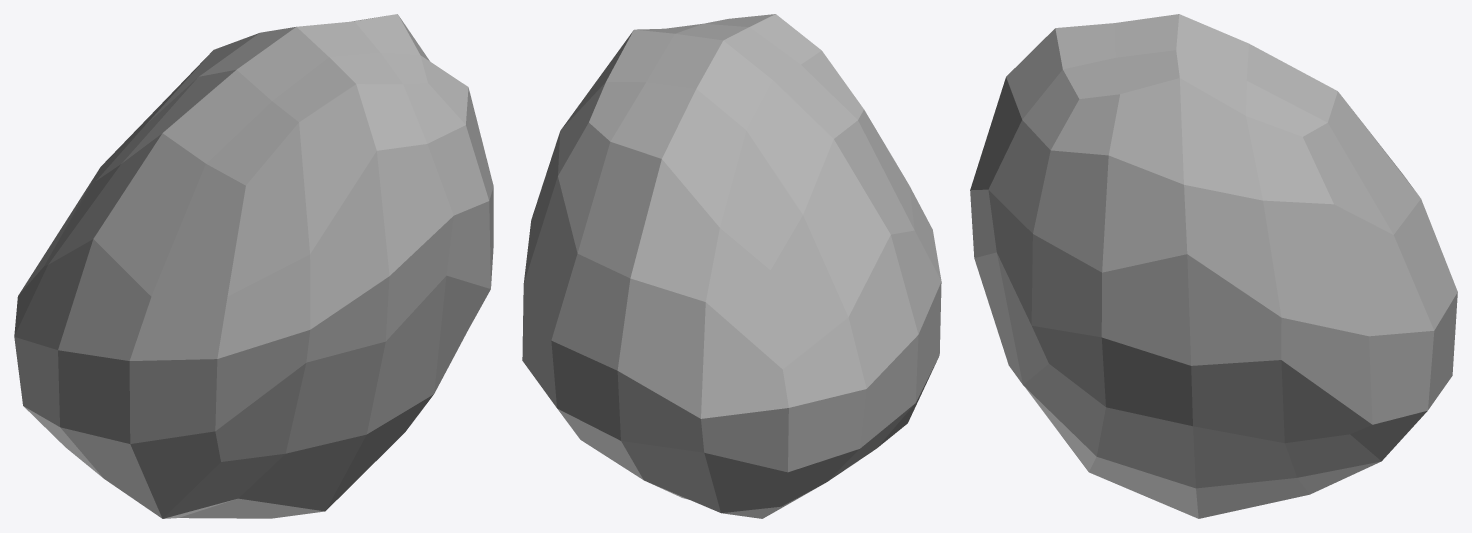
File: rock_002.glb
The picture shows the model from 3 angles, left to right: view 1: azimuth 30°, elevation 25°; view 2: azimuth 150°, elevation 25°; view 3: azimuth 270°, elevation 25°; orthographic projection. The views are drawn at different scales.
Visible parts, largest first — view 1: rock.002; view 2: rock.002; view 3: rock.002.
Boxes of the visible parts, x1,y1,x2,y2 form: rock.002: (14,14,493,518); rock.002: (522,14,941,518); rock.002: (970,14,1457,518).
Size of the model in its own units: 1.4 by 1.63 by 1.41.
Materials: 1 (1 with a texture image).
